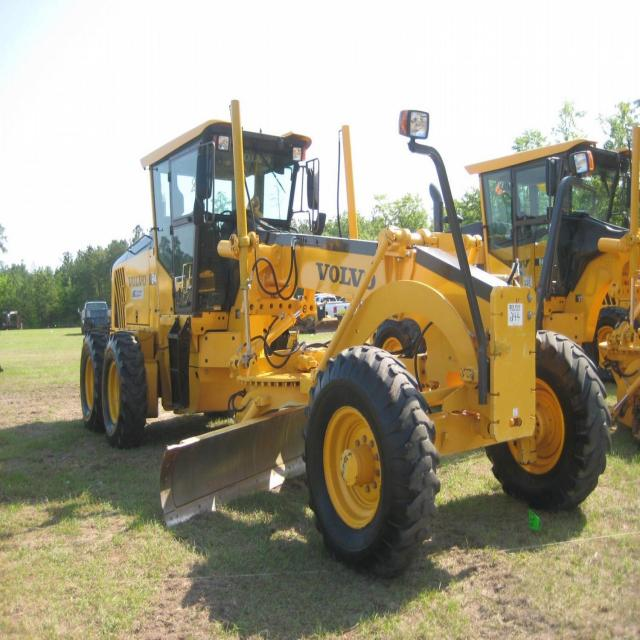Grader: (60, 106, 611, 577)
